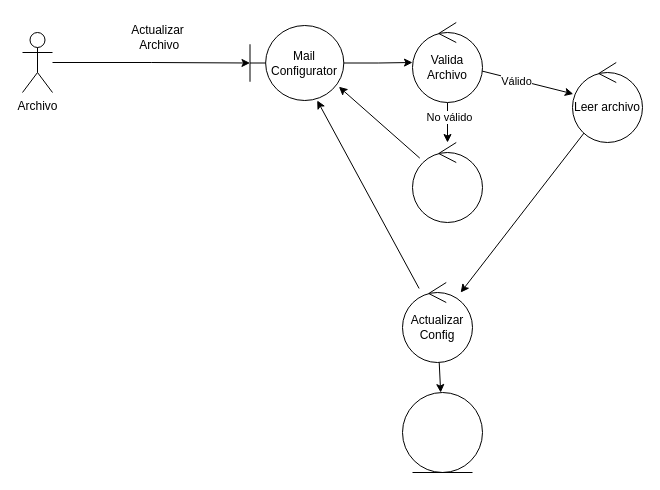
The diagram is 660 pixels wide and 490 high, and some of its shapes have lost their labels. The shapes that lost their labels are listed below. From the top down, each one's centre as x and y in pixels, then its label:
point 447,182: IOException
point 442,432: Configurations
